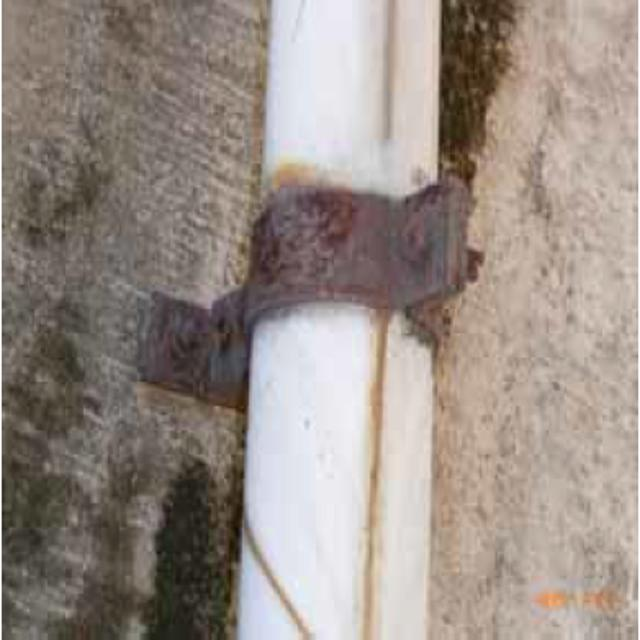corrosion: (121, 114, 513, 420)
